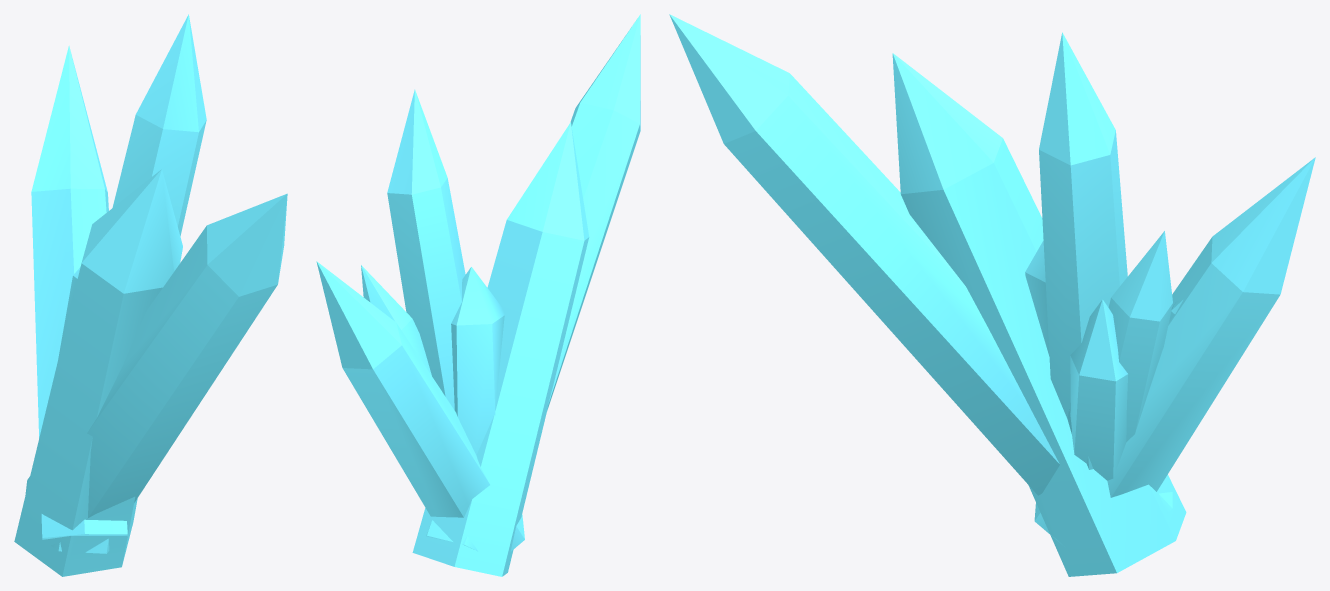
The model's file is obj_deco_cristales_2.glb.
The picture shows the model from 3 angles, left to right: view 1: azimuth 30°, elevation 25°; view 2: azimuth 150°, elevation 25°; view 3: azimuth 270°, elevation 25°; orthographic projection. The views are drawn at different scales.
Visible parts, largest first — view 1: propforge-libre-deco_cristales; view 2: propforge-libre-deco_cristales; view 3: propforge-libre-deco_cristales.
Boxes of the visible parts, x1,y1,x2,y2 form: propforge-libre-deco_cristales: [14, 14, 287, 576]; propforge-libre-deco_cristales: [316, 14, 640, 576]; propforge-libre-deco_cristales: [669, 14, 1315, 576].
Size of the model in its own units: 0.2171 by 0.6355 by 0.644.
